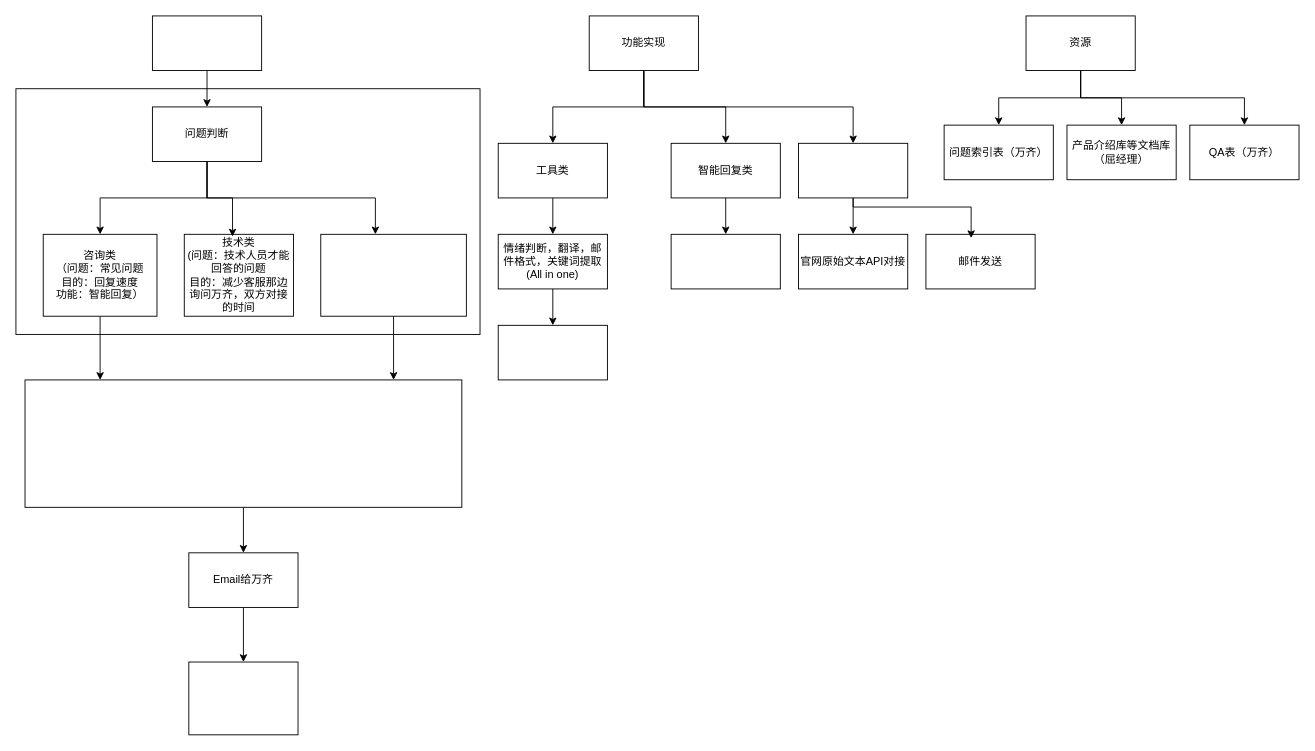
This 1315x751 diagram has some shape labels left out. The shapes that lost their labels are listed below. From the top down, each one's centre as x and y in pixels, then its label:
At pixel 207 43: "用户输入".
At pixel 853 170: "接入类".
At pixel 393 274: "反馈&情绪类 （问题：情绪相关，你家产品xxx有问题 目的：进行翻译+情绪识别，减少万齐那边处理时间）".
At pixel 725 261: "Dify+知识库+QA表".
At pixel 552 352: "Prompt工程 （在本机AI软件实现）".
At pixel 243 443: "结果： 1.分类结果By 问题索引表（大类+小类） 2.中外对照 3.AI生成的结果".
At pixel 243 698: "万齐本人根据回复给谁".
